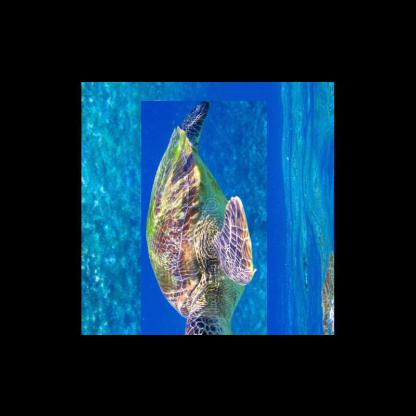turtle: (140, 98, 268, 333)
